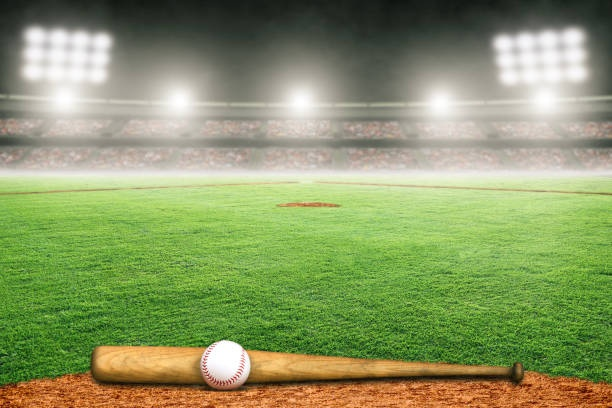bita: (90, 341, 529, 382)
